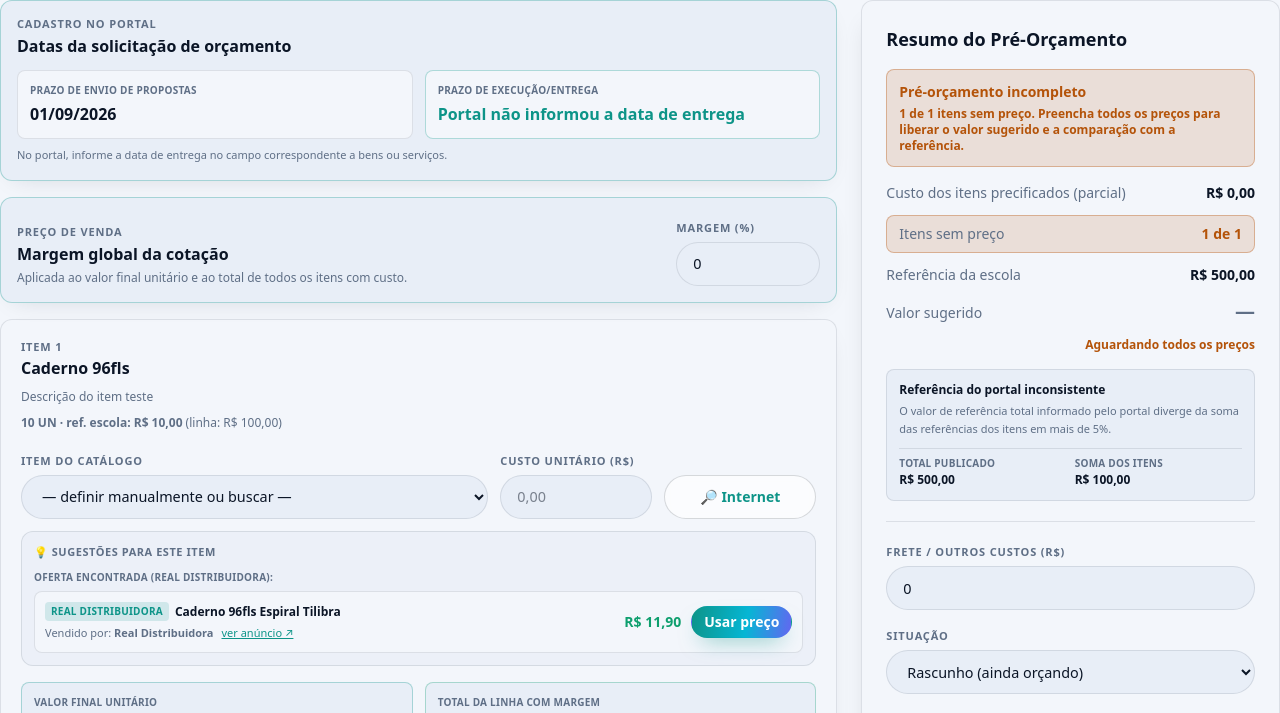
PrequoteWorksheet - Sugestões Automáticas › renderiza a oferta da Real Distribuidora com preço e botão 'Usar preço'
# Clica em "Usar preço"
Step 1. Click the button "Usar preço" → (742, 622), box [691,606,792,638]
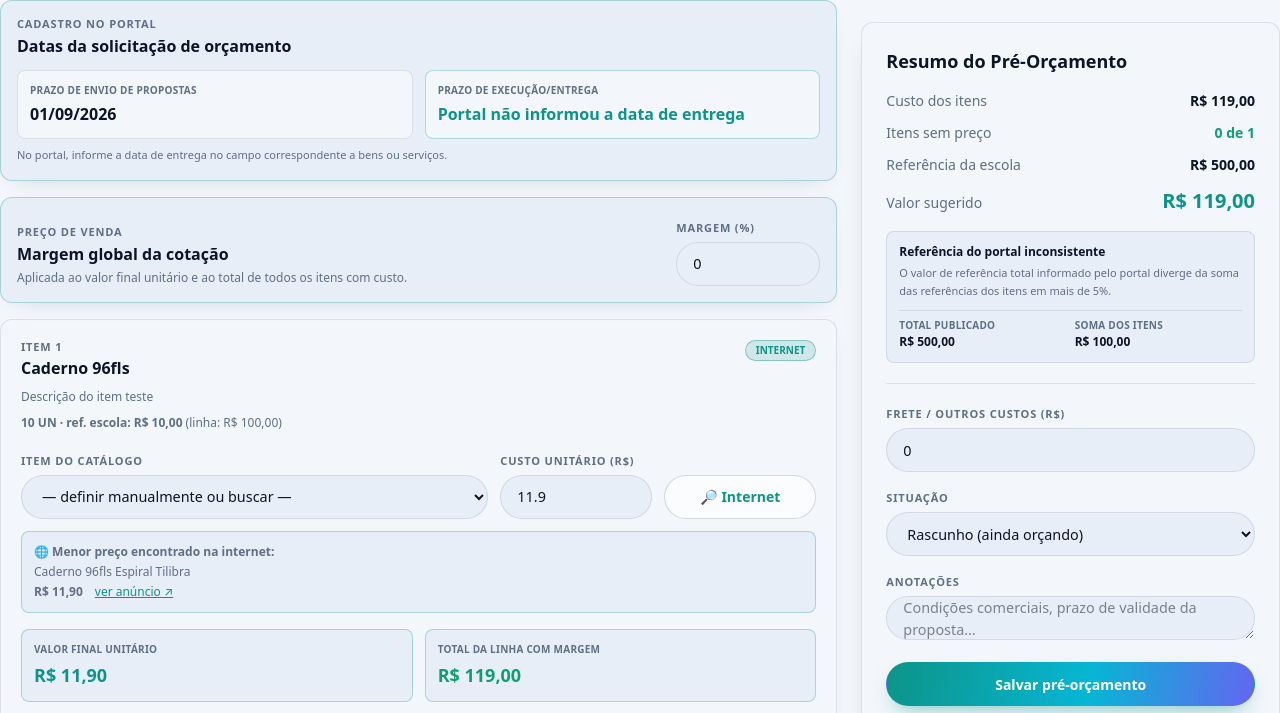
Check: the text "INTERNET" is shown, box [745,340,816,361]
Check: the number field labelled "Custo unitário (R$)" holds "11.9", box [500,474,652,518]
Check: the text "🌐 Menor preço encontrado na internet:" is shown, box [34,542,274,560]
